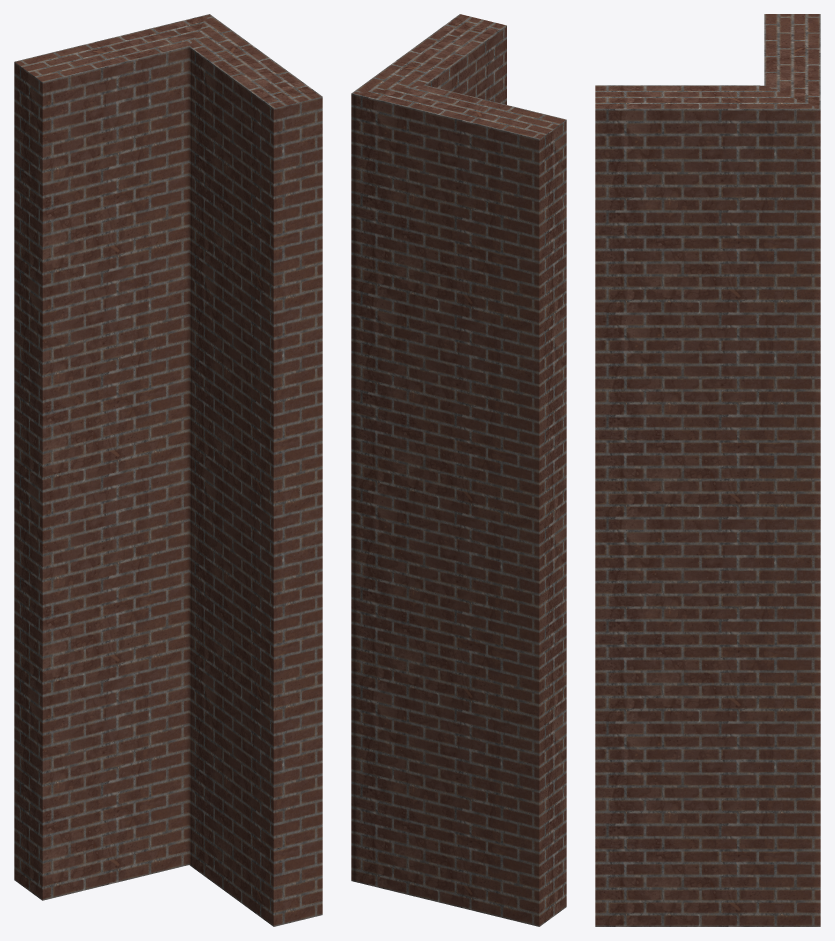
Rendered from SM_BrickWallCorner8m.FBX.
3 views of the same model, side by side, from view 1: azimuth 30°, elevation 25°; view 2: azimuth 150°, elevation 25°; view 3: azimuth 270°, elevation 25° (orthographic). The views are drawn at different scales.
Visible parts, largest first — view 1: SM_BrickWallCorner8m; view 2: SM_BrickWallCorner8m; view 3: SM_BrickWallCorner8m.
Part boxes in pixels (x1,y1,x2,y2): SM_BrickWallCorner8m: (14, 14, 322, 926); SM_BrickWallCorner8m: (351, 14, 566, 926); SM_BrickWallCorner8m: (595, 14, 820, 926).
Bounding box in the file's own units: 200 × 200 × 800.
